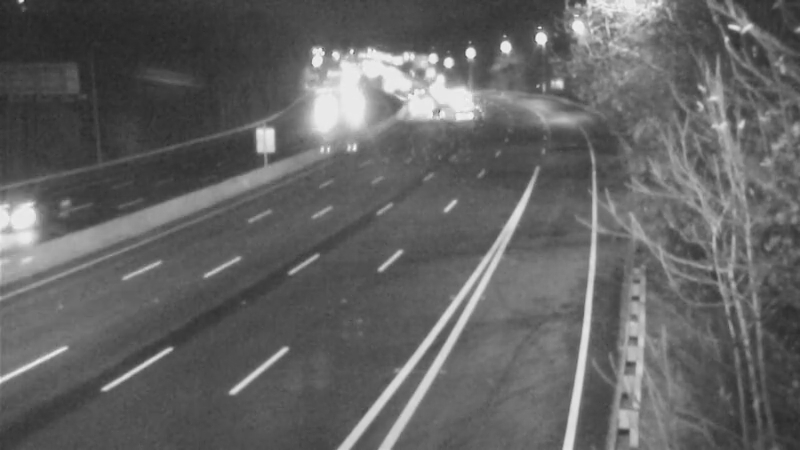vehicle: (1, 177, 72, 257), (411, 63, 461, 113), (441, 79, 491, 129), (394, 78, 444, 128), (433, 92, 483, 142), (405, 89, 455, 139), (299, 87, 349, 137)
